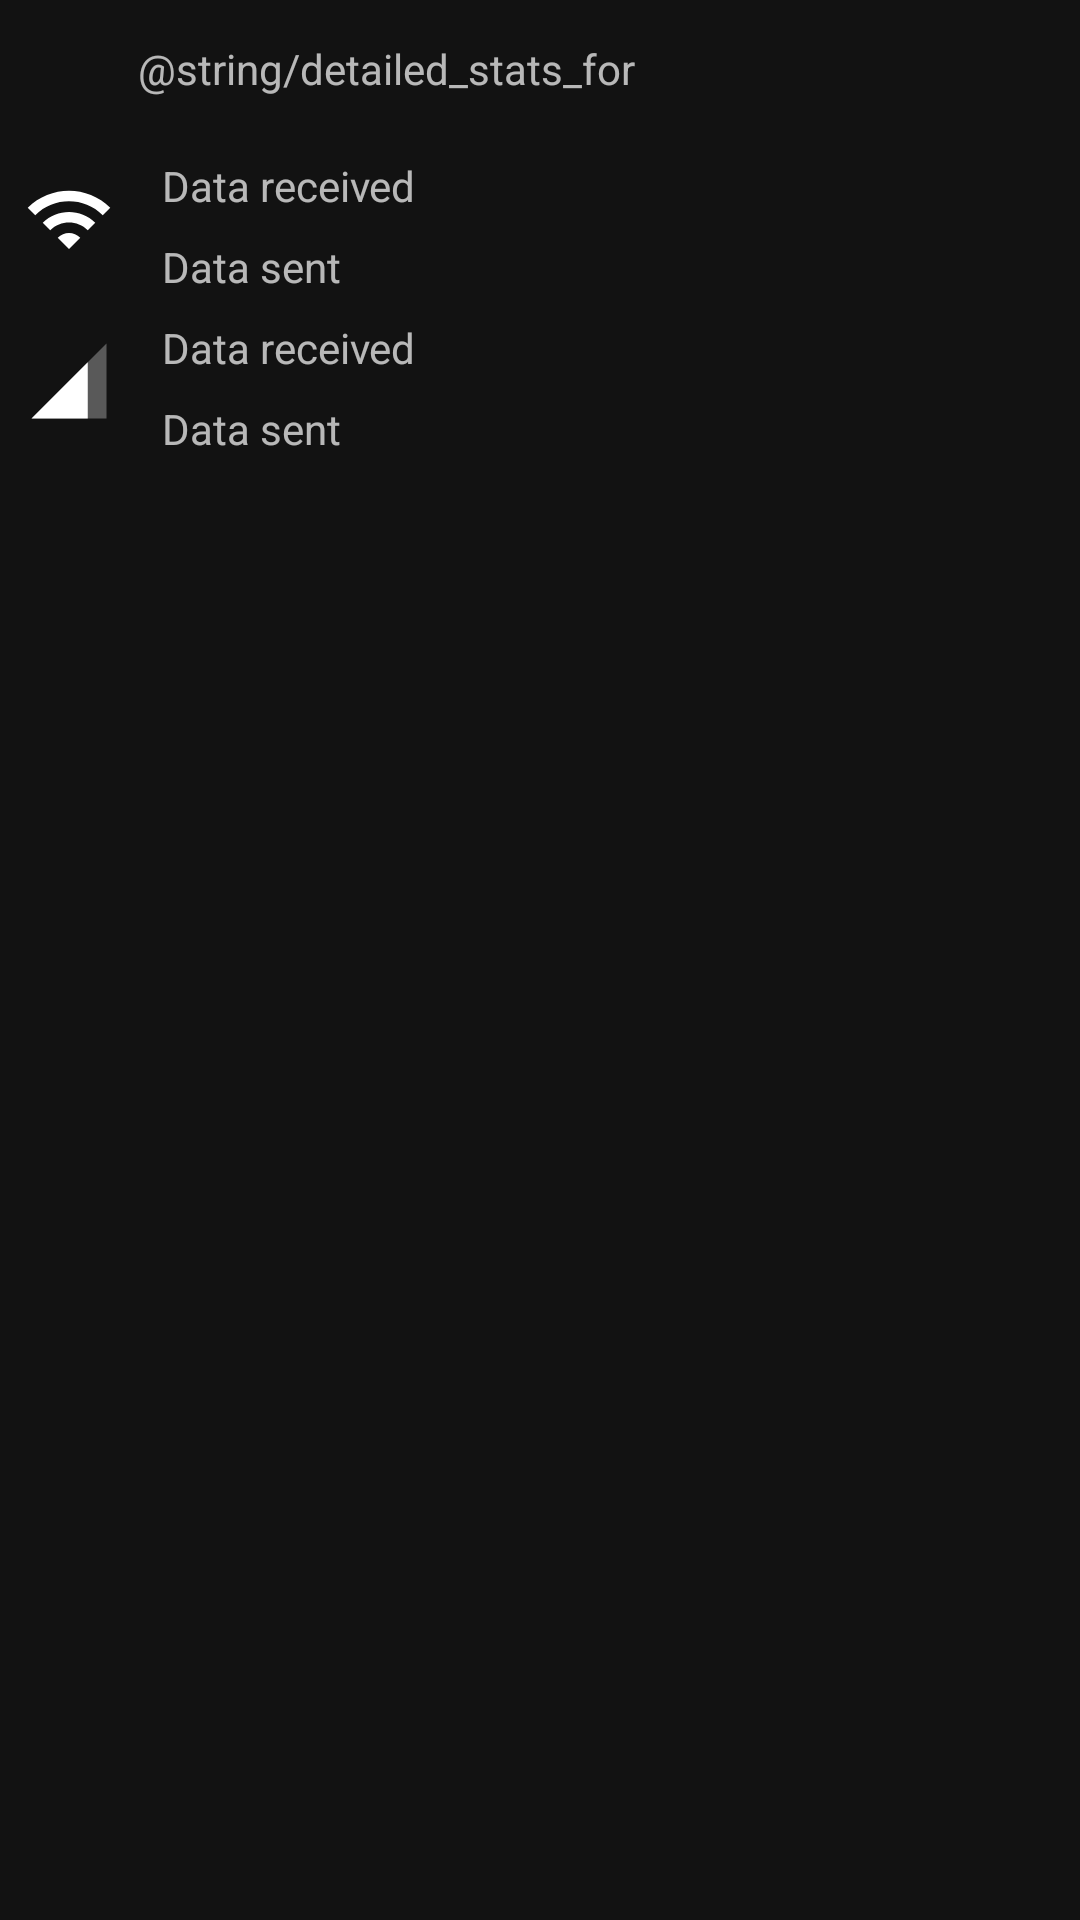

Locate icon controls on the screen. Image size 1080×1920, boxes as (left=x1, top=y1, right=x2, bottom=y2).
network cell: (left=31, top=344, right=107, bottom=419)
wifi: (left=28, top=190, right=110, bottom=249)
